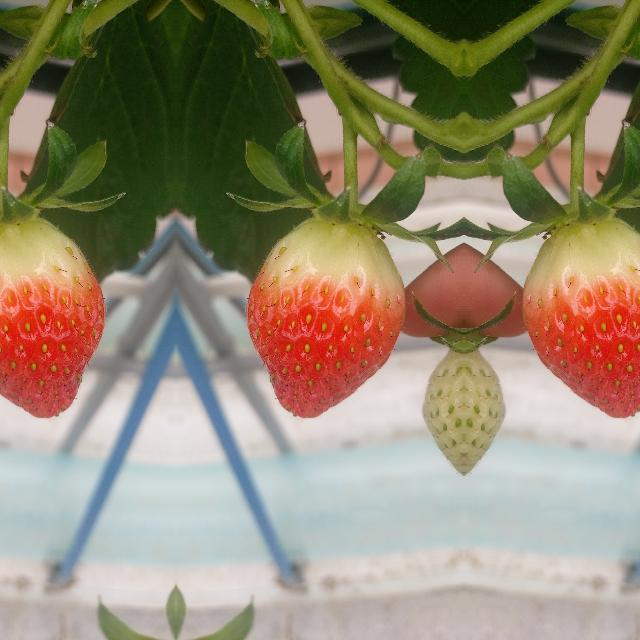Health_100: (246, 217, 404, 417), (522, 217, 640, 417), (0, 217, 104, 417)
